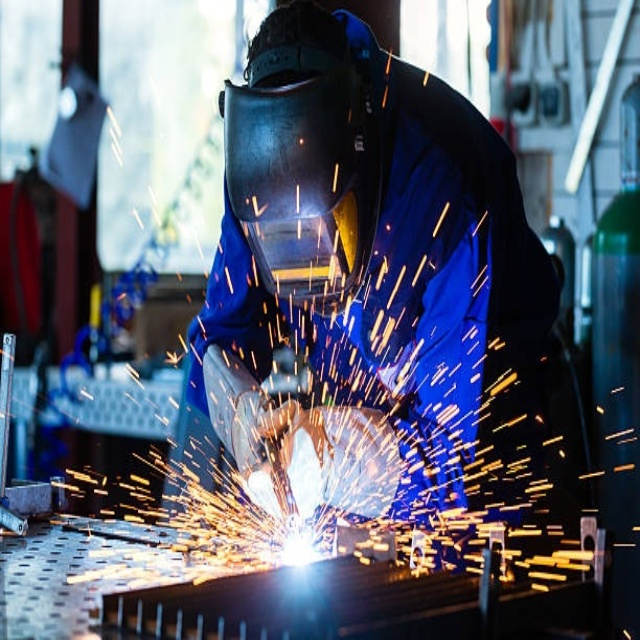Guantes: (203, 343, 295, 504), (304, 403, 405, 521)
